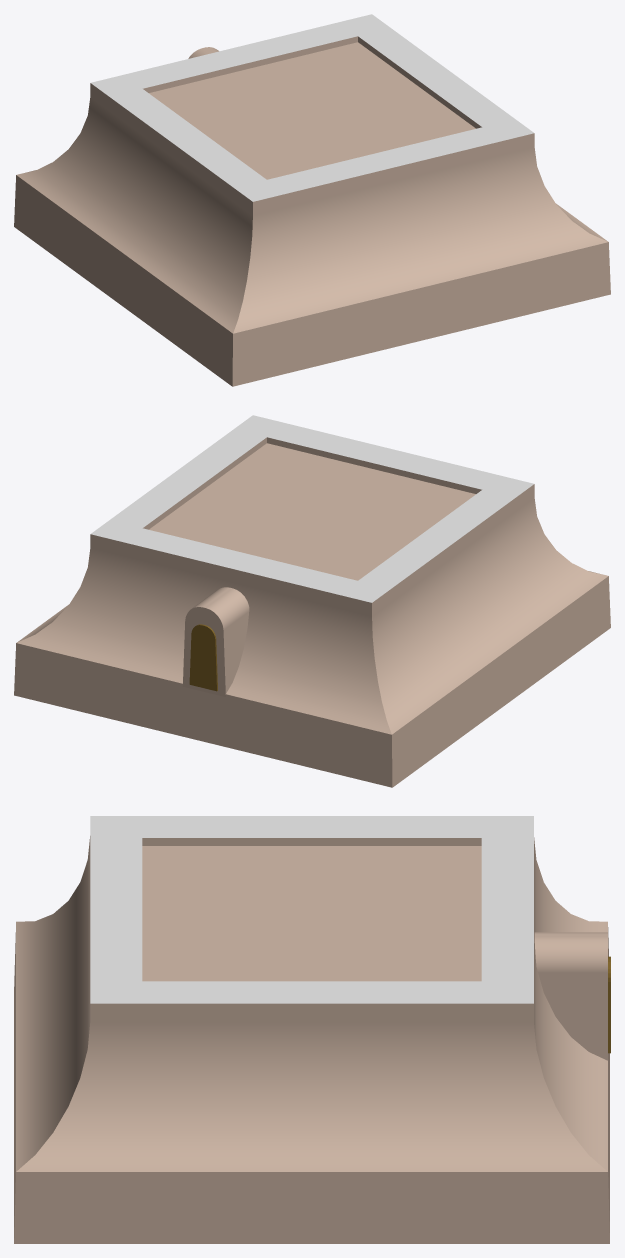
Rendered from DustCityHouse_Single.fbx.
The picture shows the model from 3 angles, top to bottom: view 1: azimuth 30°, elevation 25°; view 2: azimuth 150°, elevation 25°; view 3: azimuth 270°, elevation 25°; orthographic projection. The views are drawn at different scales.
Visible parts, largest first — view 1: DCHouse_single; view 2: DCHouse_single, HouseDoor; view 3: DCHouse_single, HouseDoor.
Boxes of the visible parts, x1,y1,x2,y2 form: DCHouse_single: (14, 14, 610, 386); DCHouse_single: (14, 415, 610, 787); HouseDoor: (182, 587, 249, 696); DCHouse_single: (14, 816, 609, 1243); HouseDoor: (534, 932, 610, 1060).
Size of the model in its own units: 202 by 77.66 by 202.
